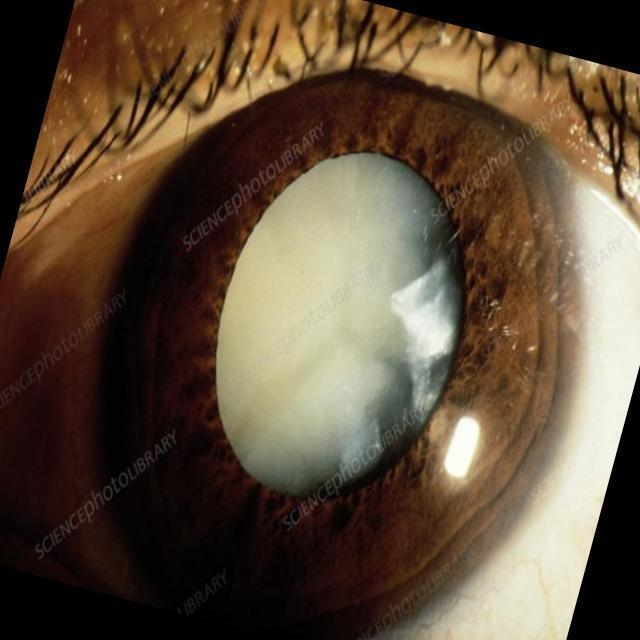Cataract: (24, 25, 640, 640)
